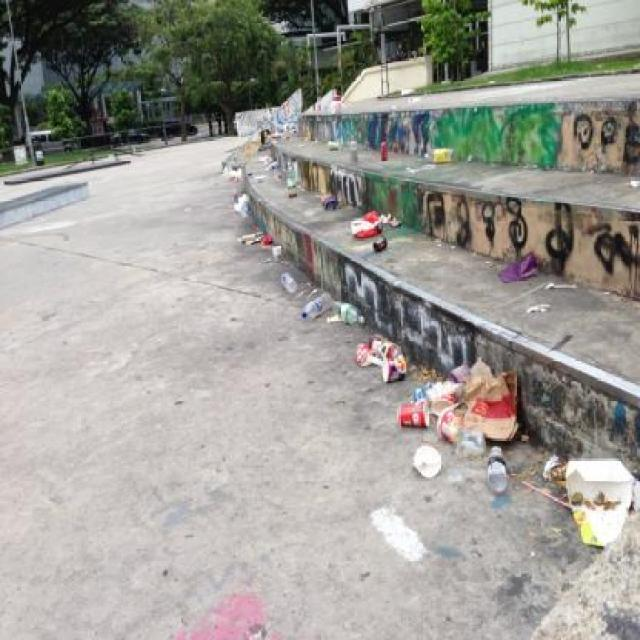garbage: (397, 376, 514, 487), (569, 451, 636, 541), (348, 332, 408, 378), (346, 208, 397, 255), (234, 229, 282, 258), (497, 251, 540, 280), (329, 290, 363, 326), (282, 159, 299, 200), (420, 146, 458, 164), (303, 293, 328, 319), (229, 180, 246, 212), (540, 454, 559, 482), (346, 136, 364, 165), (256, 122, 273, 152), (279, 268, 295, 295), (323, 131, 342, 152), (395, 86, 420, 100), (223, 159, 243, 176), (379, 139, 392, 162), (320, 197, 339, 206), (333, 97, 343, 114), (268, 156, 277, 173), (303, 129, 310, 142)
